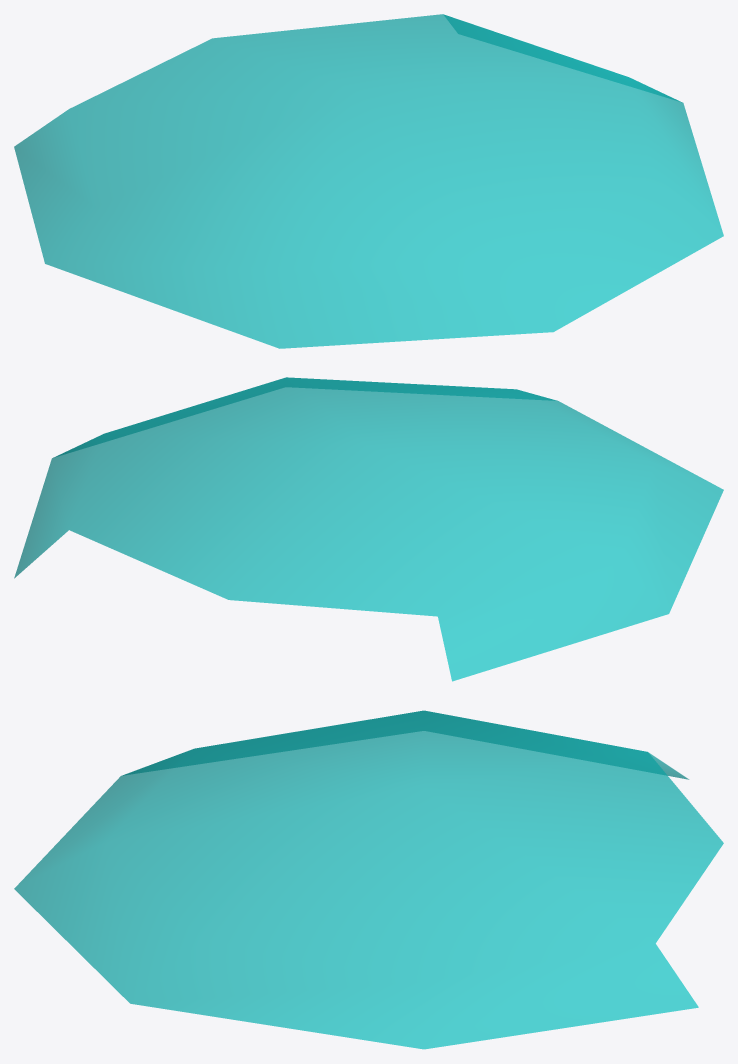
Rendered from dummy_past1.gltf.
3 renders of one model, top to bottom at view 1: azimuth 30°, elevation 25°; view 2: azimuth 150°, elevation 25°; view 3: azimuth 270°, elevation 25°, orthographic. The views are drawn at different scales.
Visible parts, largest first — view 1: dummy_past1; view 2: dummy_past1; view 3: dummy_past1.
Boxes of the visible parts, x1,y1,x2,y2 form: dummy_past1: (14,14,723,348); dummy_past1: (14,377,723,681); dummy_past1: (14,710,723,1049).
Bounding box in the file's own units: 0.5044 × 0.0735 × 0.467.
